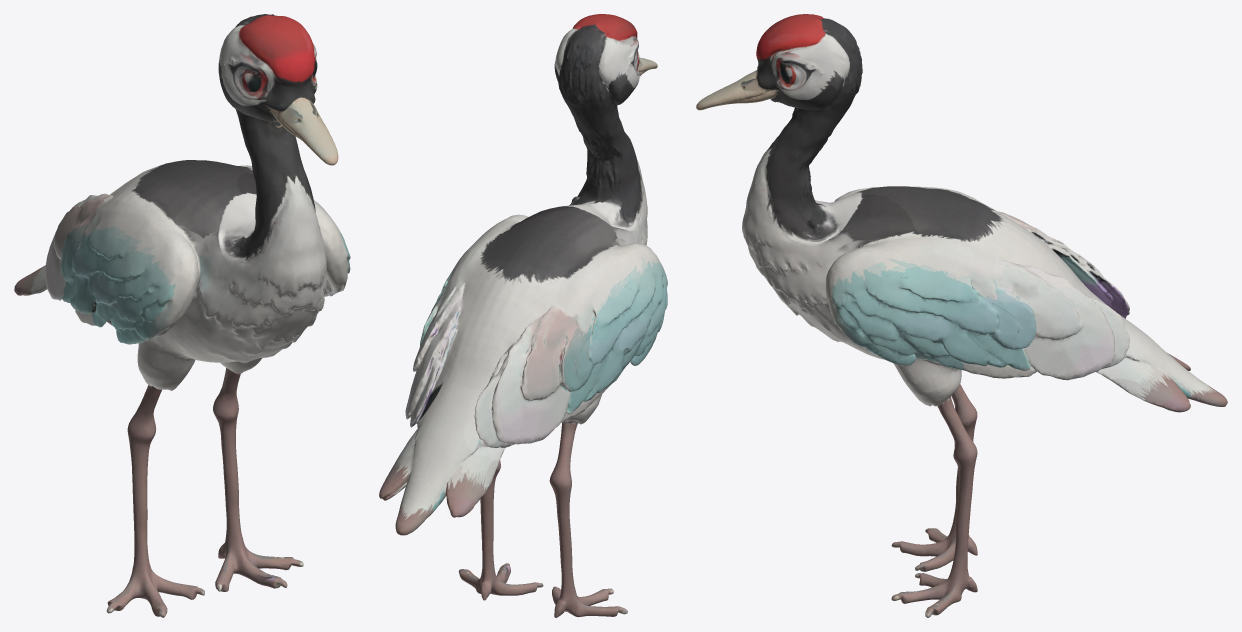
Rendered from Durumi.obj.
The picture shows the model from 3 angles, left to right: view 1: azimuth 30°, elevation 25°; view 2: azimuth 150°, elevation 25°; view 3: azimuth 270°, elevation 25°; orthographic projection. The views are drawn at different scales.
Visible parts, largest first — view 1: surface_8; view 2: surface_8; view 3: surface_8.
Part boxes in pixels (x1,y1,x2,y2): surface_8: (14, 14, 350, 617); surface_8: (379, 14, 667, 617); surface_8: (696, 14, 1227, 617).
Bounding box in the file's own units: 0.3624 × 0.9984 × 0.8606.
1 material, 1 textured.
